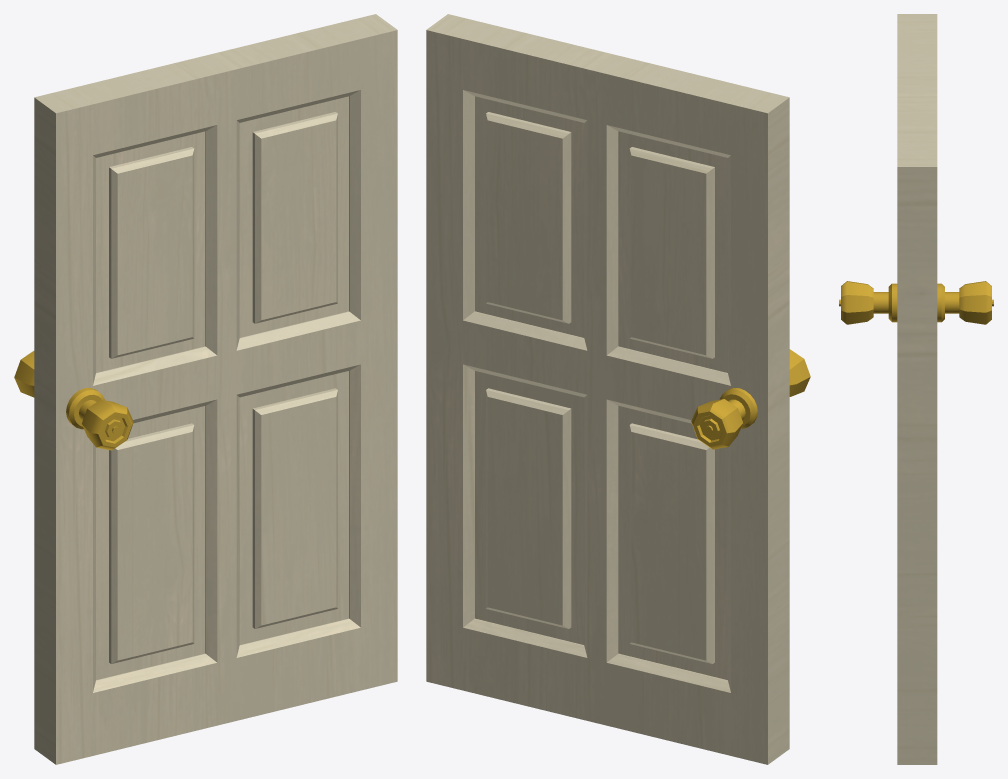
The model's file is door.fbx.
3 views of the same model, side by side, from view 1: azimuth 30°, elevation 25°; view 2: azimuth 150°, elevation 25°; view 3: azimuth 270°, elevation 25° (orthographic). The views are drawn at different scales.
Visible parts, largest first — view 1: pCube3; view 2: pCube3; view 3: pCube3.
Part boxes in pixels (<box>): pCube3: <box>14,14,397,764</box>; pCube3: <box>426,14,810,764</box>; pCube3: <box>839,14,993,764</box>.
Size of the model in its own units: 8.54 by 15.55 by 3.65.
1 material, 1 textured.
